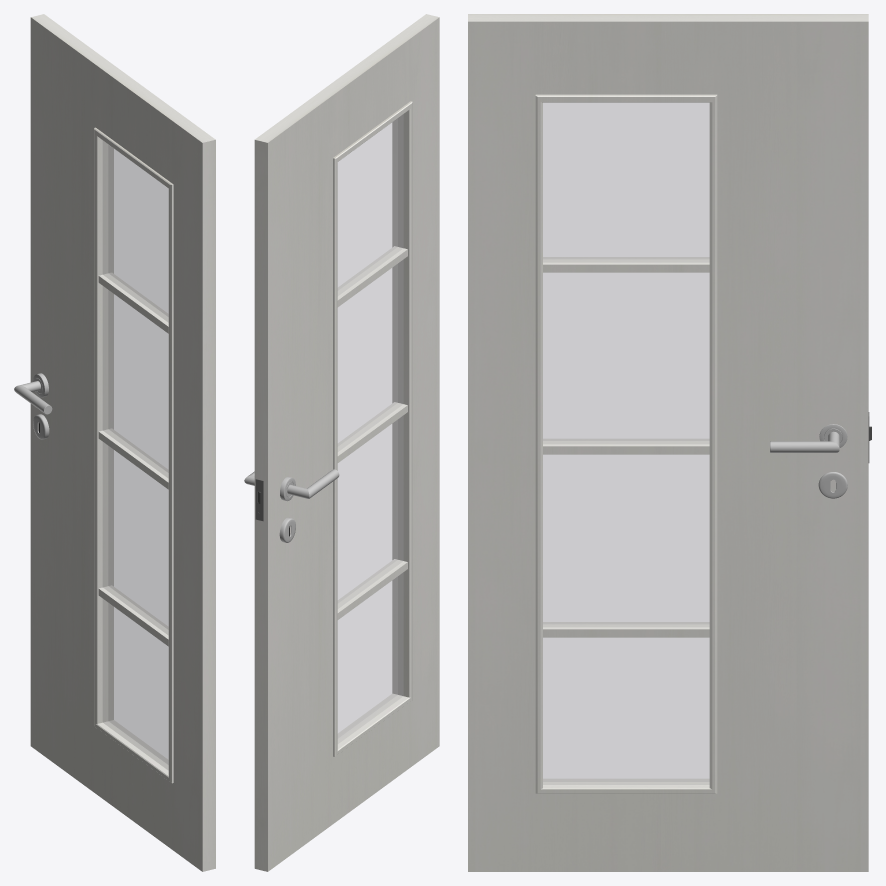
File: door26.glb
The picture shows the model from 3 angles, left to right: view 1: azimuth 30°, elevation 25°; view 2: azimuth 150°, elevation 25°; view 3: azimuth 270°, elevation 25°; orthographic projection. The views are drawn at different scales.
Parts seen in each view (by area): view 1: TB-LA3B-DQ+SP30, Door_Handle_01; view 2: TB-LA3B-DQ+SP30, Door_Handle_01; view 3: TB-LA3B-DQ+SP30, Door_Handle_01.
Part boxes in pixels (x1,y1,x2,y2): TB-LA3B-DQ+SP30: (30, 14, 215, 871); Door_Handle_01: (14, 373, 52, 439); TB-LA3B-DQ+SP30: (254, 14, 439, 871); Door_Handle_01: (244, 469, 339, 542); TB-LA3B-DQ+SP30: (468, 14, 871, 871); Door_Handle_01: (770, 424, 847, 498).
Size of the model in its own units: 0.1566 by 1.67 by 0.7188.
6 materials, 1 textured.
